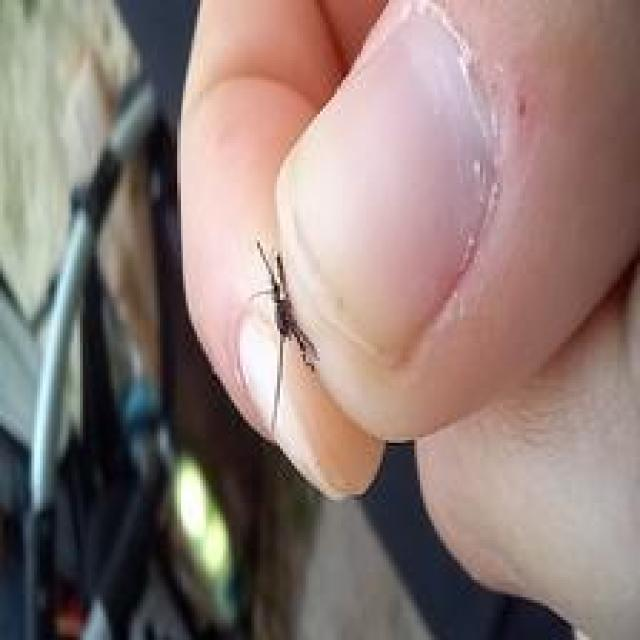Aedes albopictus: (250, 237, 321, 440)
